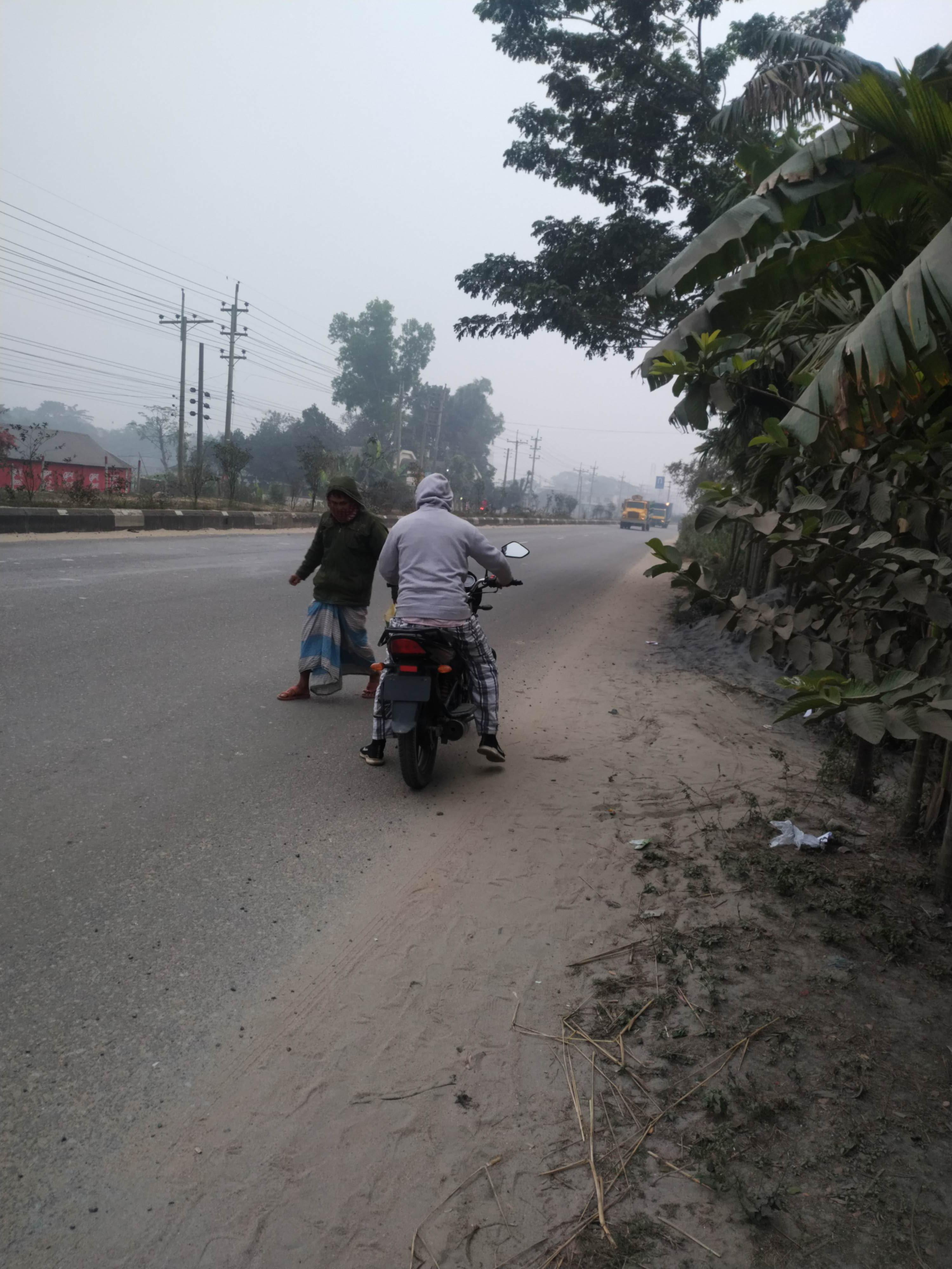Bike: (350, 455, 551, 805)
Truck: (612, 484, 657, 550)
